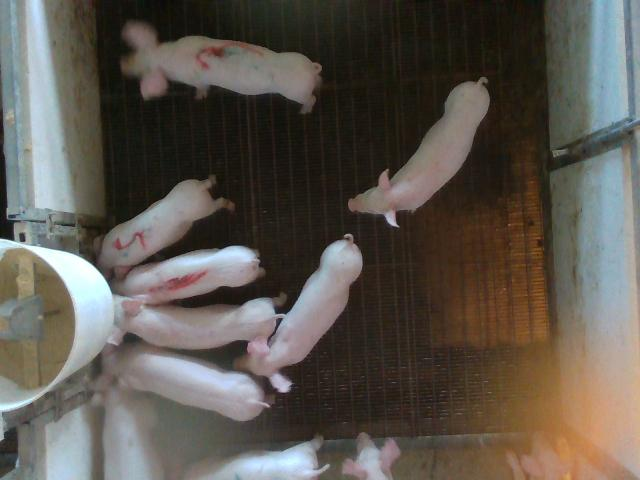pig-1: (112, 246, 265, 305)
pig-3: (121, 21, 321, 113)
pig-5: (95, 176, 234, 280)
